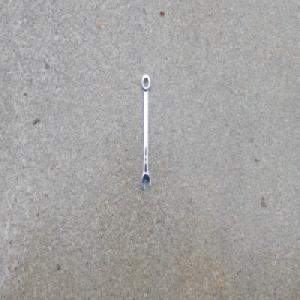Wrench: (140, 72, 151, 190)
